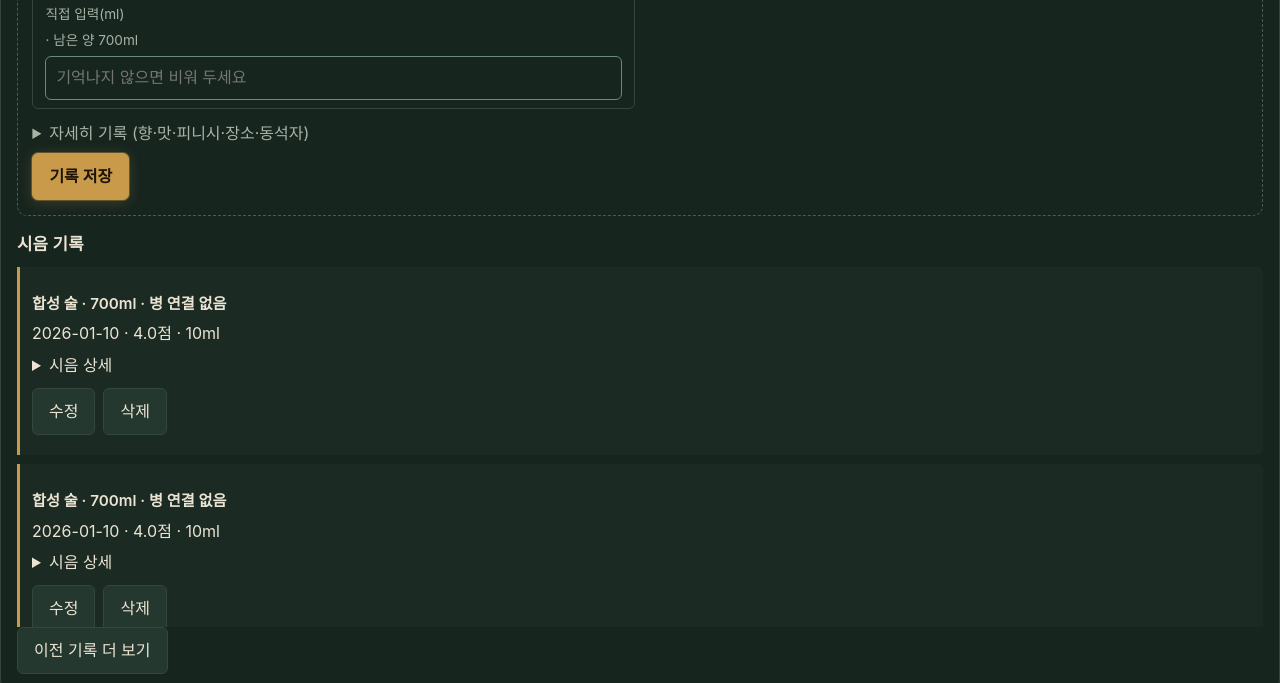
it: 이미 읽은 페이지를 갱신하다 실패해도 내역을 유지하고 전체 목록을 재시도한다
(page scrolled)
Click the button "이전 기록 더 보기".
click(92, 650)  # box [17,627,168,674]
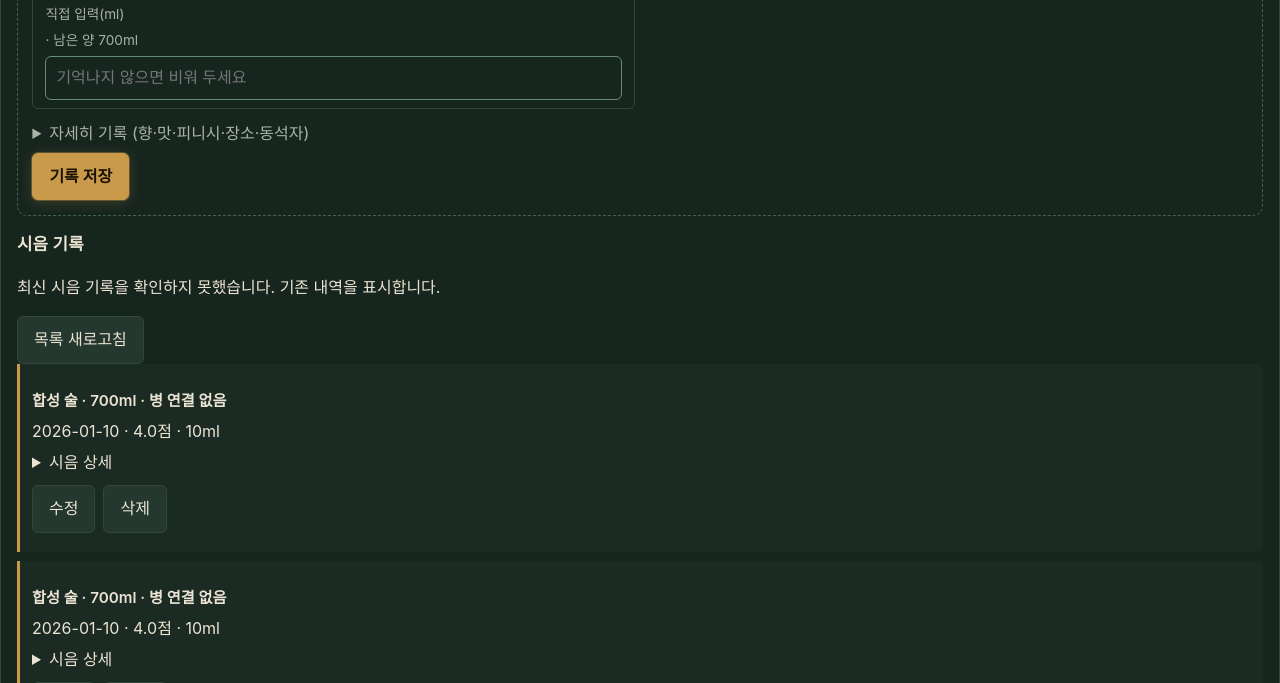
expect the message shows "최신 시음 기록을 확인하지 못했습니다": met, box [17,277,440,297]
Click the button "목록 새로고침".
click(80, 340)  # box [17,316,144,364]
(page scrolled)
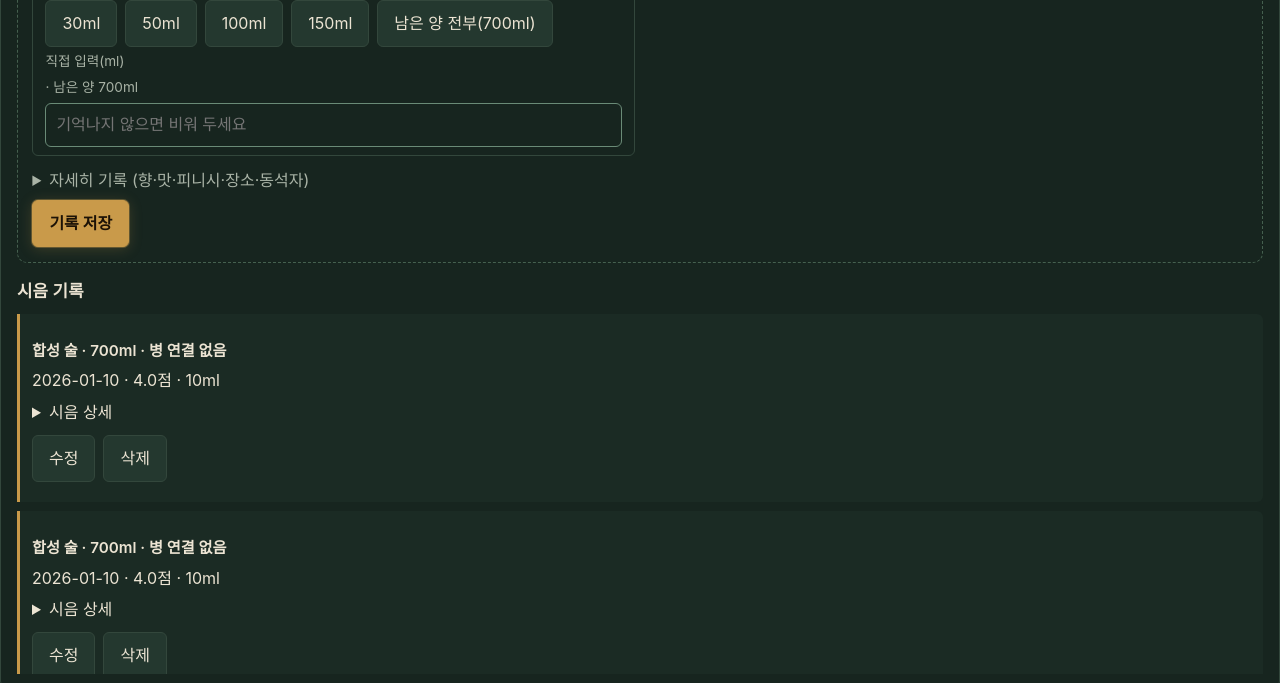
expect the message "최신 시음 기록을 확인하지 못했습니다. 기존 내역을 표시합니다." is gone: met
